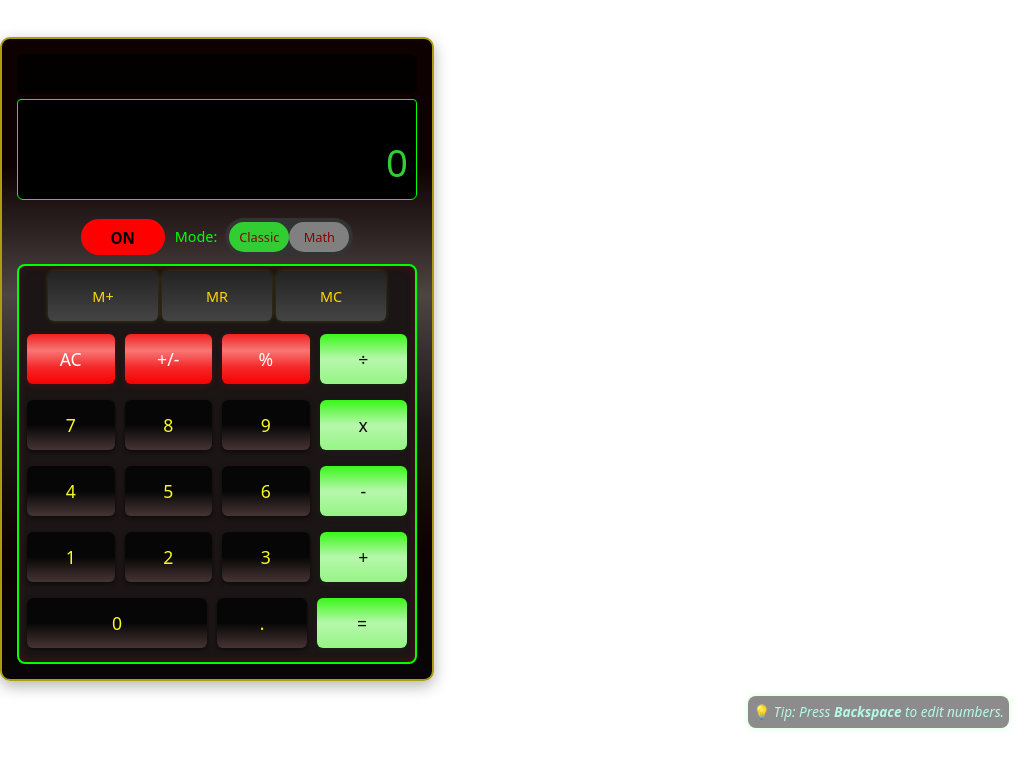
Scenario: AC clears the display
Click the button named "button-2".
click(168, 557)  # box [124, 532, 212, 582]
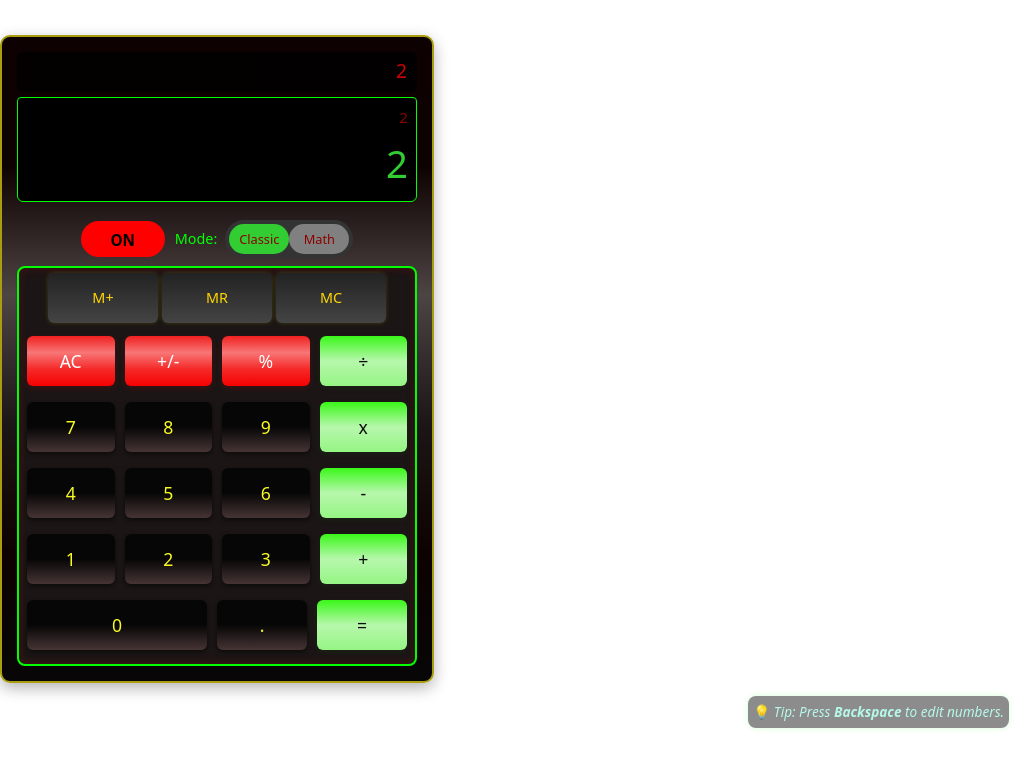
Click the button with aria-label "button-AC".
click(71, 361)  # box [27, 336, 114, 386]
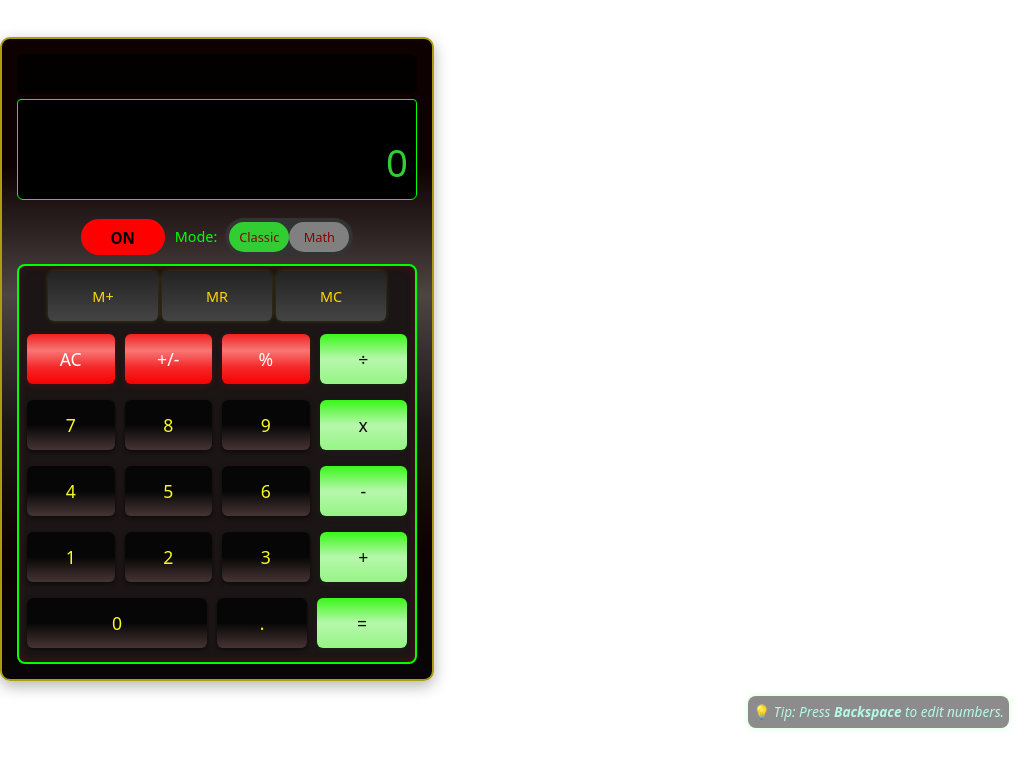
Check: the message with id "display" reads "0", box [386, 136, 408, 188]
